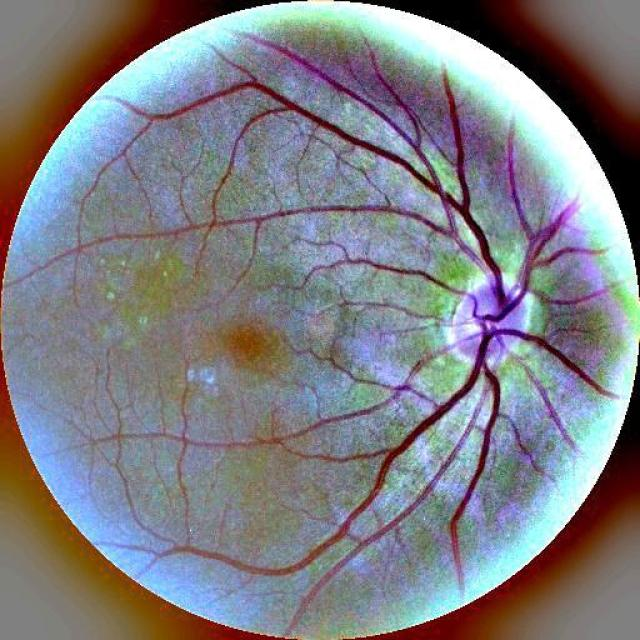Macula: (219, 324, 281, 371)
Optic Disk: (441, 268, 540, 369)
